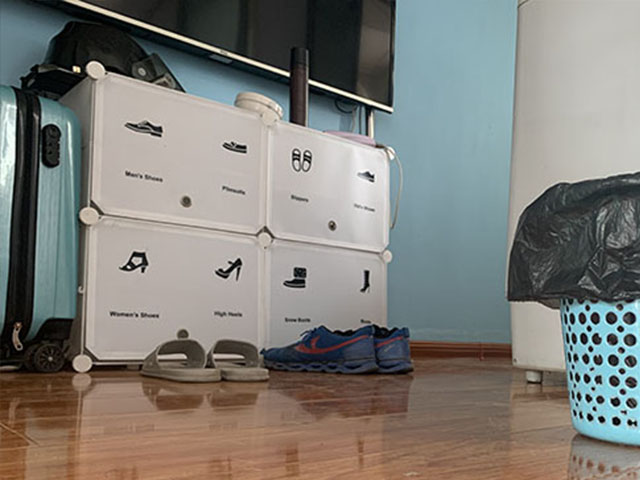slippers: (137, 334, 223, 383), (211, 340, 268, 381)
trashcan: (508, 170, 640, 451)
